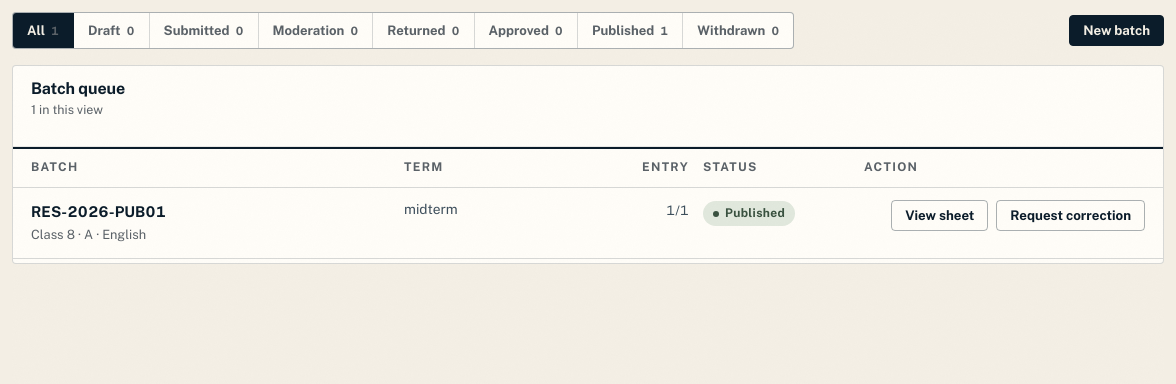
Scenario: correction request from the batch queue › lets the entry officer request a correction without an editable version claim
Click the button "Request correction". click: {"x": 1071, "y": 215}
box: [996,200,1145,231]
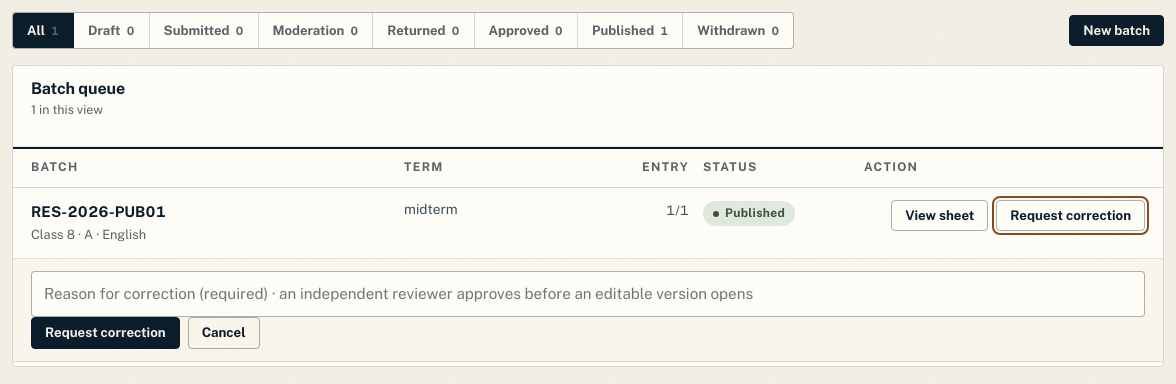
Type "Recheck question 4" into the field with placeholder "Reason for correction". click: {"x": 588, "y": 294}
box: [31,271,1145,317]
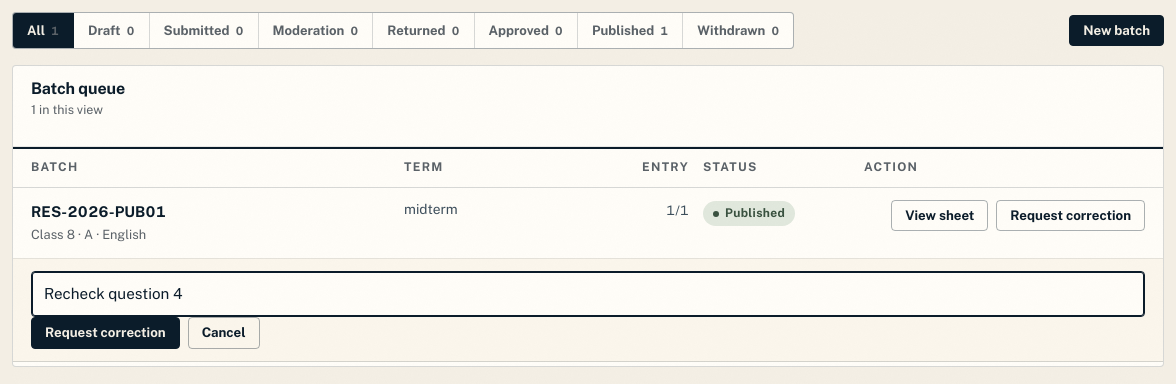
Click the 2nd button "Request correction". click: {"x": 105, "y": 333}
box: [31,317,180,349]
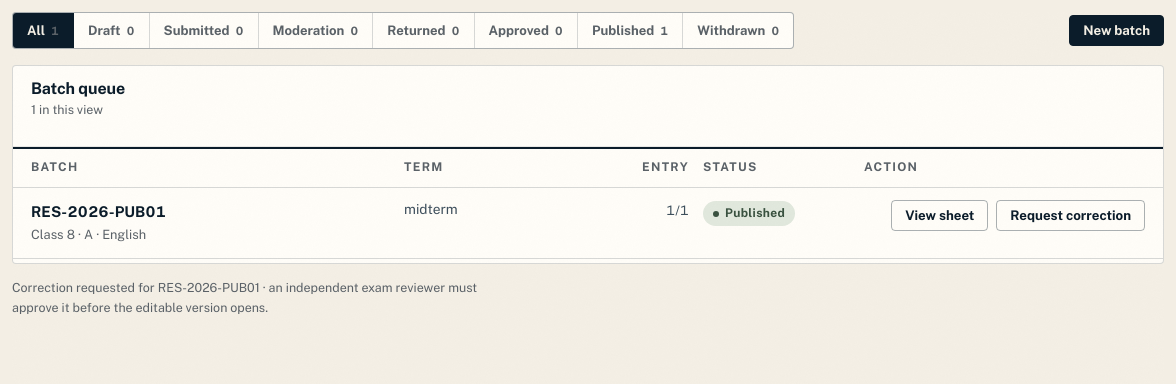
Expected: the text "an independent exam reviewer must approve it" is shown, [12,280,477,315]
